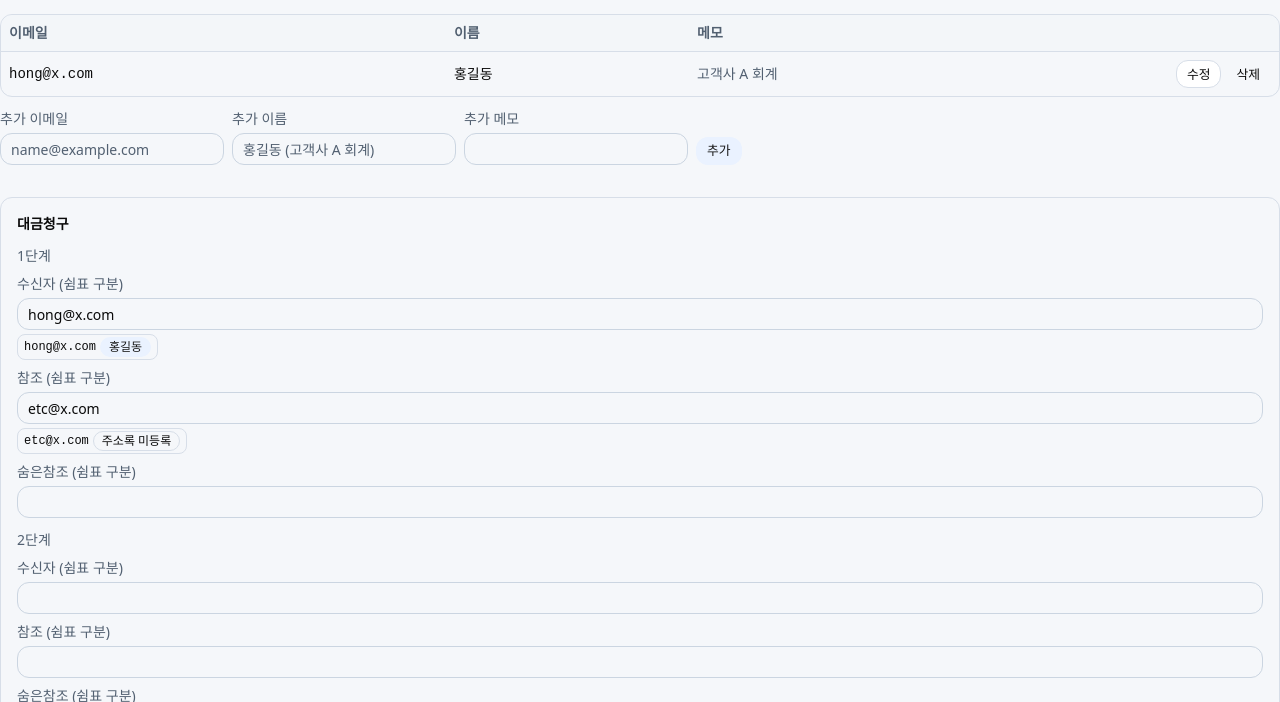
Test case: 세트 저장 › PUT 200 → 응답의 서버 정규화 recipients로 draft 동기화
The image size is (1280, 702).
Replace the text in the field named "1단계 참조" with " ETC@x.com , etc@x.com" at (640, 408), box [17,392,1263,424]
(page scrolled)
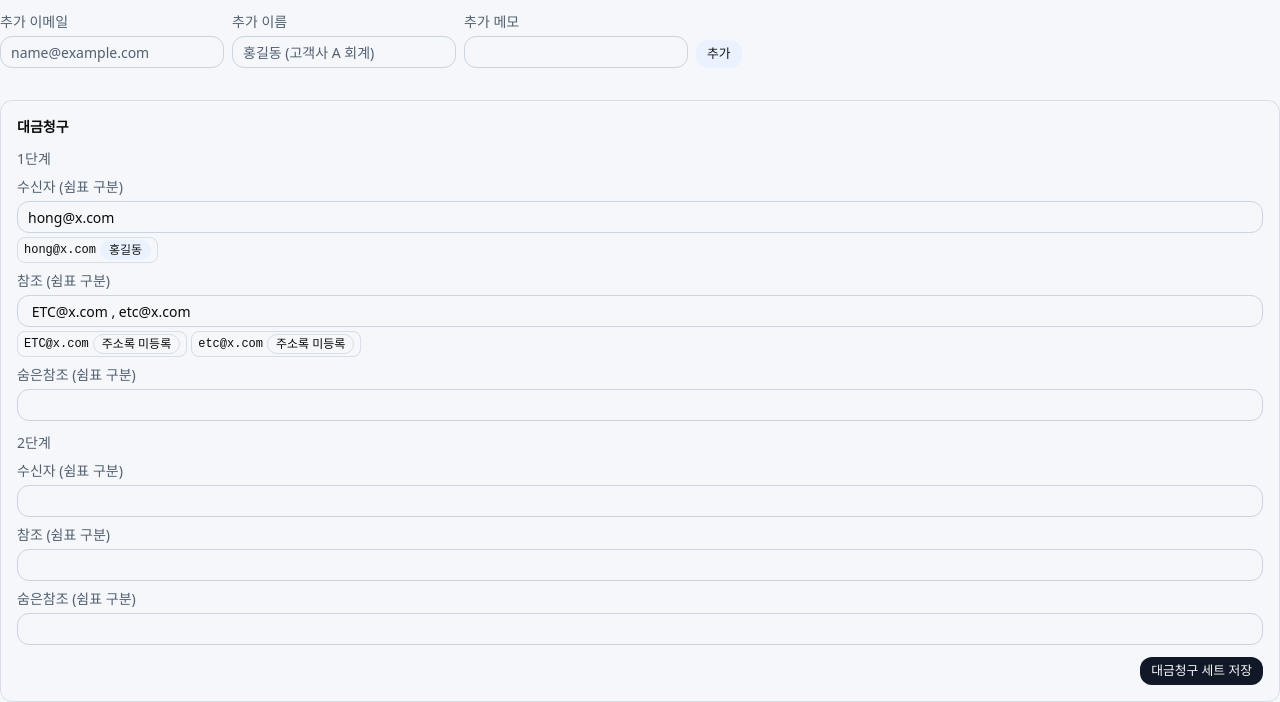
Click the button "대금청구 세트 저장" at (1202, 671), box [1140,657,1263,685]
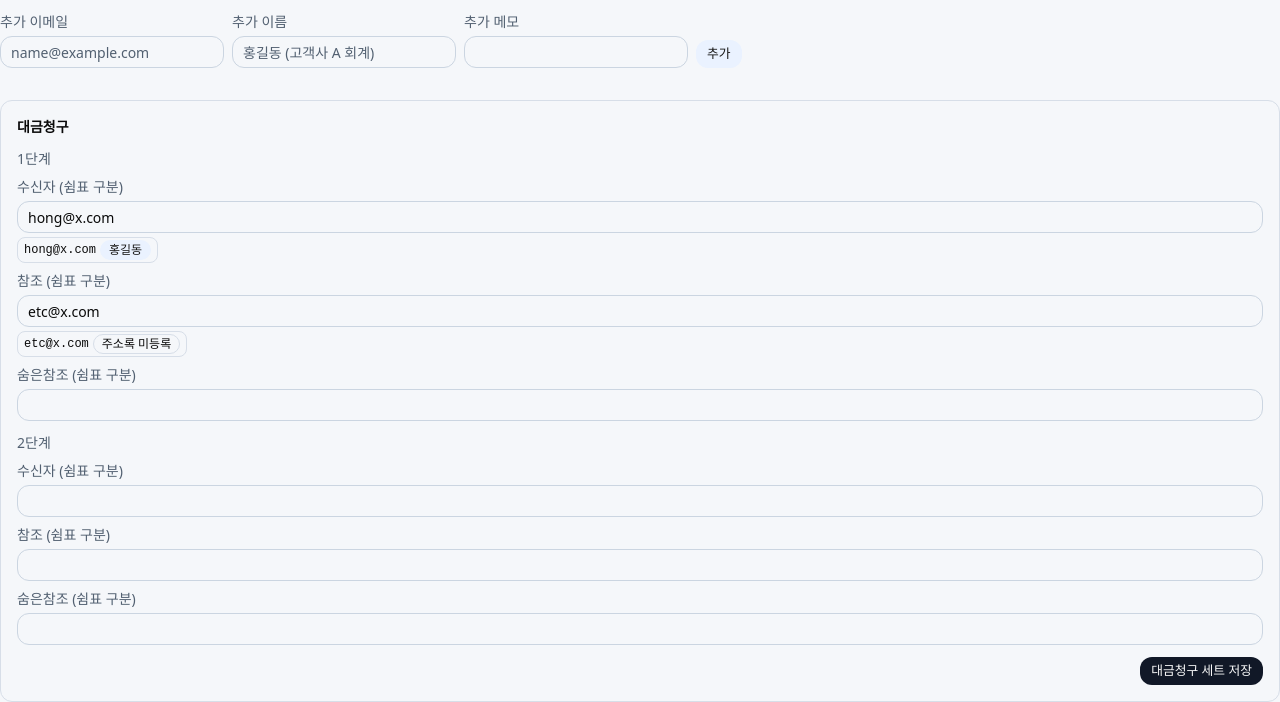
Expected: the field named "1단계 참조" holds "etc@x.com", [17,295,1263,327]
